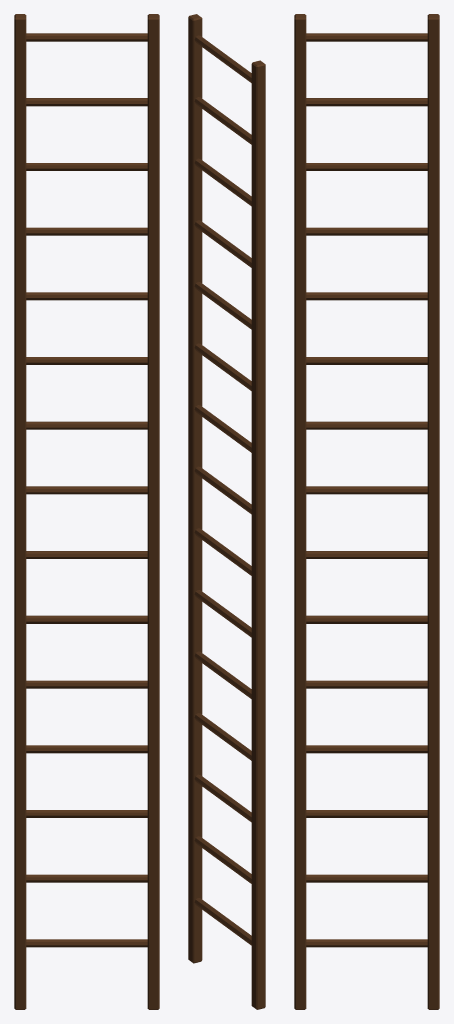
Rendered from Ladder.obj.
3 renders of one model, left to right at view 1: azimuth 90°, elevation 25°; view 2: azimuth 210°, elevation 25°; view 3: azimuth 270°, elevation 25°, orthographic. The views are drawn at different scales.
Visible parts, largest first — view 1: Wood; view 2: Wood; view 3: Wood.
Boxes of the visible parts, x1,y1,x2,y2 form: Wood: (14,14,159,1009); Wood: (188,14,265,1009); Wood: (294,14,439,1009).
Size of the model in its own units: 0.05 by 4.6 by 0.61.
